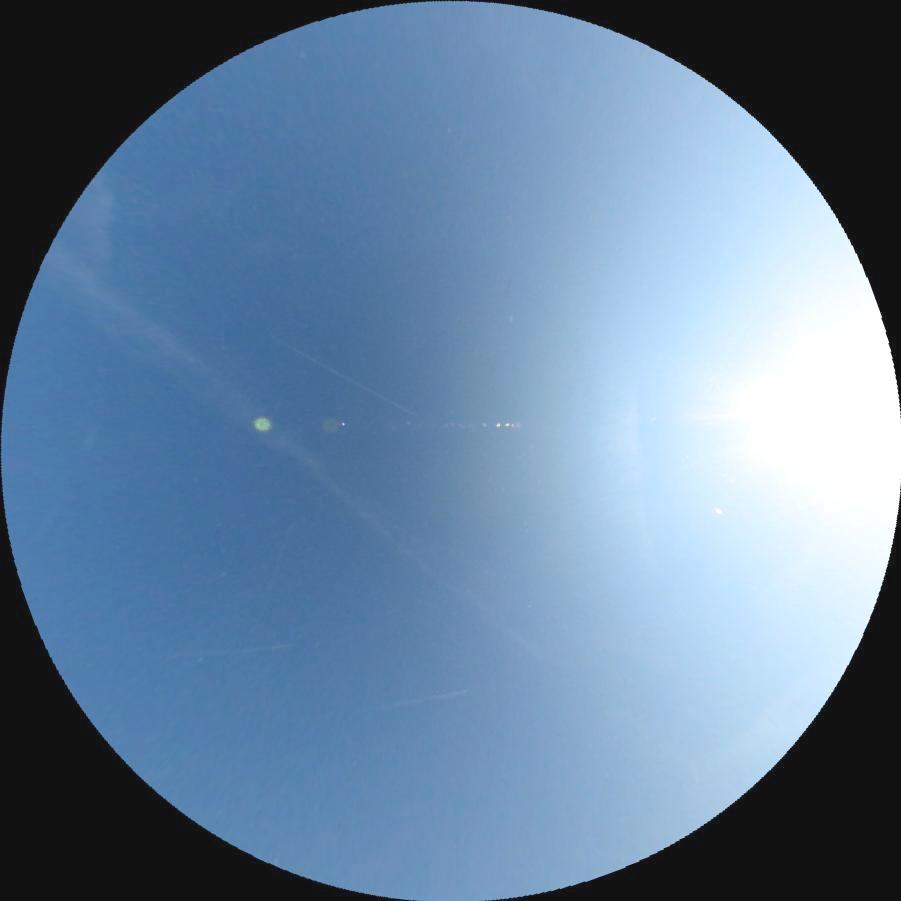contrail veryold: (30, 235, 560, 693)
contrail young: (267, 334, 421, 417), (351, 688, 469, 714), (266, 521, 293, 585), (191, 641, 289, 656)
sun: (757, 311, 901, 528)
